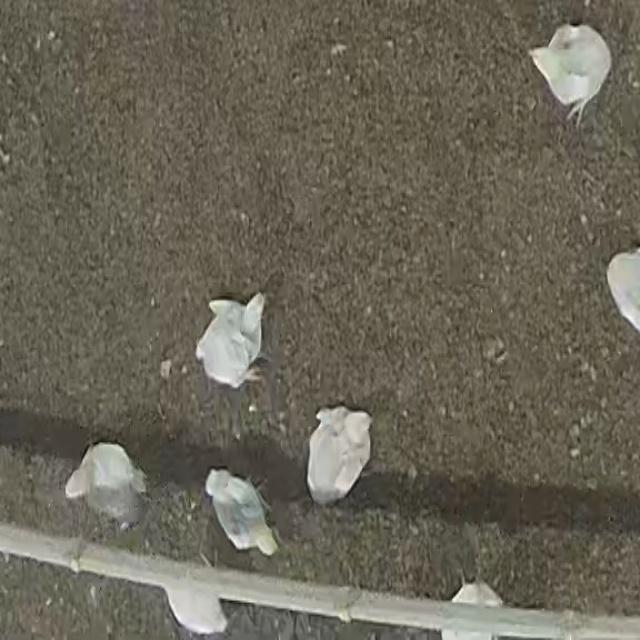chicken: (532, 27, 617, 119), (63, 440, 148, 532), (195, 292, 267, 394), (203, 467, 279, 558), (305, 406, 373, 507), (159, 584, 226, 634), (606, 246, 640, 338)
